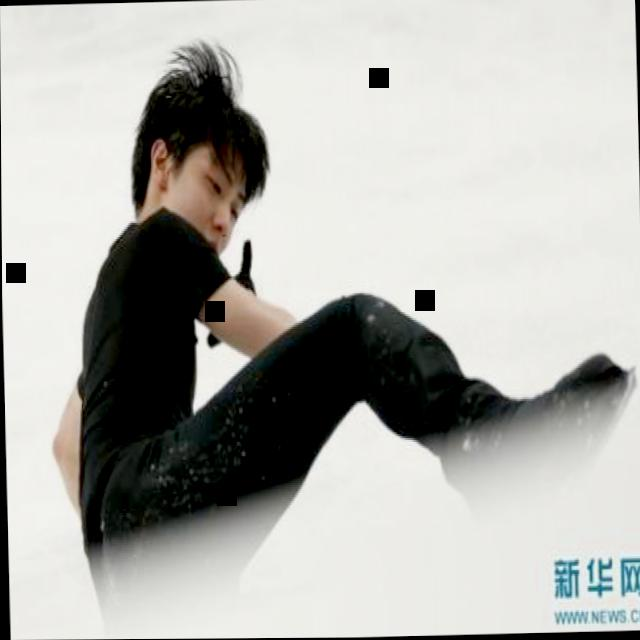Fall-Detected: (16, 18, 640, 619)
